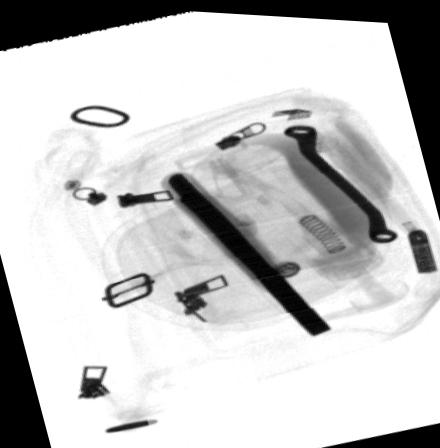Pliers: (162, 170, 332, 333)
Wrench: (281, 121, 398, 240)
